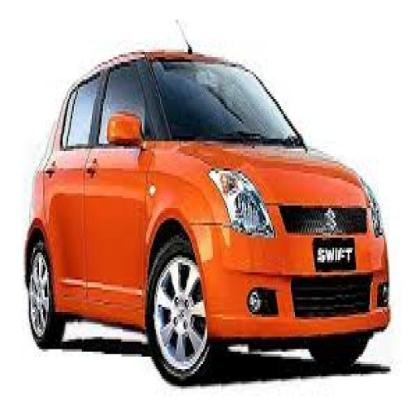car: (14, 38, 399, 391)
